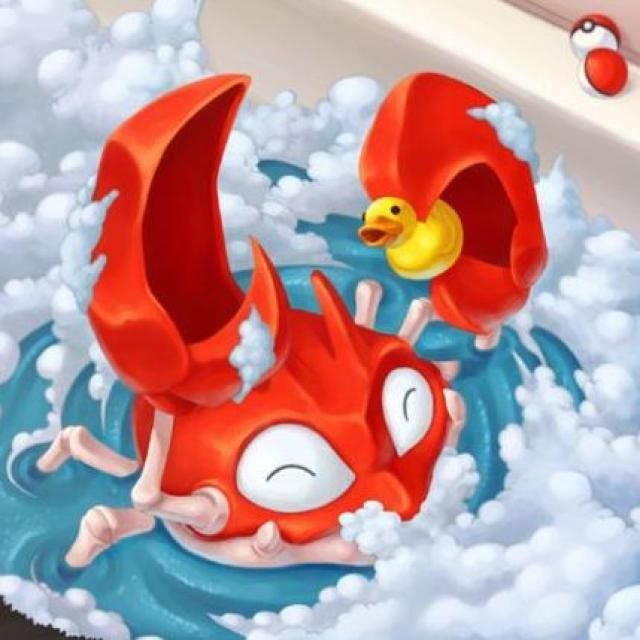Krabby: (102, 261, 525, 576)
